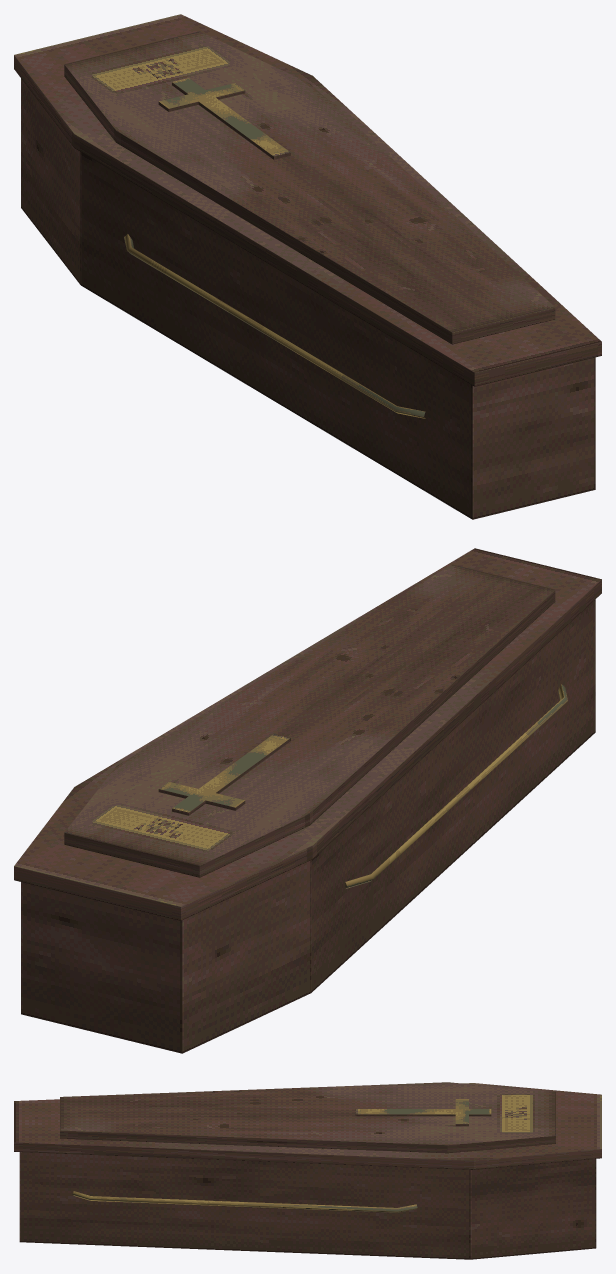
File: coffin_closed.glb
The picture shows the model from 3 angles, top to bottom: view 1: azimuth 30°, elevation 25°; view 2: azimuth 150°, elevation 25°; view 3: azimuth 270°, elevation 25°; orthographic projection. The views are drawn at different scales.
Visible parts, largest first — view 1: coffin_closed; view 2: coffin_closed; view 3: coffin_closed.
Part boxes in pixels (<box>): coffin_closed: <box>14,14,601,519</box>; coffin_closed: <box>14,548,601,1053</box>; coffin_closed: <box>14,1082,601,1259</box>.
Size of the model in its own units: 0.6427 by 0.413 by 1.99.
Materials: 1 (1 with a texture image).
